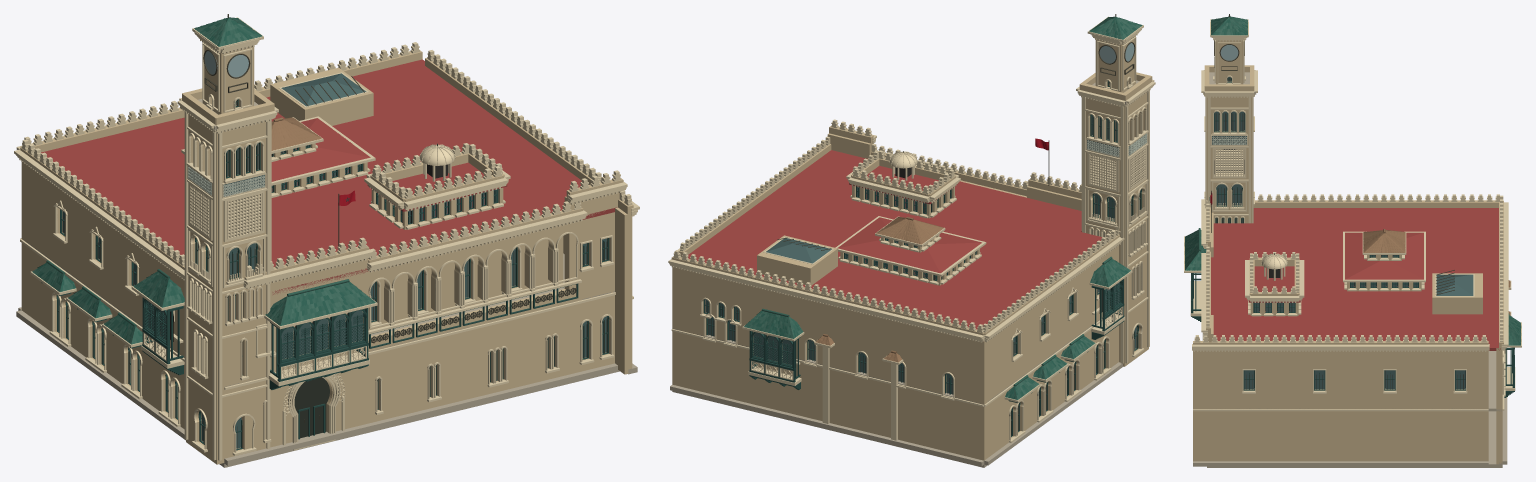
The model's file is COMANDANCIA_WEB.glb.
3 renders of one model, left to right at view 1: azimuth 30°, elevation 25°; view 2: azimuth 150°, elevation 25°; view 3: azimuth 270°, elevation 25°, orthographic. The views are drawn at different scales.
Parts seen in each view (by area): view 1: TOIT_TERRASSE_PRINCIPAL, MAIN_WALL_GALLERY_LOWER, MAIN_WALL_SIDE_B, Encadrements_baies, MAIN_WALL_FRONT_LEFT, TOWER_FACE_0, TOWER_CORNER_PILASTERS, PAVILION_FRONT_RIGHT, SOUBASSEMENTS, GALLERY_ARCADE_WALL, Vitrages_recesses, TOWER_FACE_1 (+53 smaller); view 2: REAR_WALL_HISTORICAL_HYPOTHESIS, TOIT_TERRASSE_PRINCIPAL, MAIN_WALL_SIDE_B, Encadrements_baies, TOWER_FACE_1, TOWER_CORNER_PILASTERS, SOUBASSEMENTS, CENTRAL_MONITOR_RED_support, Vitrages_recesses, Appuis_fenetres, Dormants_menuiseries, CORNICHE_3.141592653589793_0.6 (+38 smaller); view 3: RIGHT_WALL_UNCERTAIN, TOIT_TERRASSE_PRINCIPAL, CENTRAL_MONITOR_RED_support, SOUBASSEMENTS, Vitrages_recesses, CORNICHE_1.5707963267948966_-0.5, TOWER_FACE_3, CORNICHE_-1.5707963267948966_-1_parapet, CORNICHE_1.5707963267948966_-0.5_merlons, REAR_ROOF_ACCESS, Appuis_fenetres, CORNICHE_-1.5707963267948966_-1_merlons (+27 smaller).
Boxes of the visible parts, left/top/right/bottom form: TOIT_TERRASSE_PRINCIPAL: left=41, top=59, right=617, bottom=294; MAIN_WALL_GALLERY_LOWER: left=368, top=289, right=582, bottom=423; MAIN_WALL_SIDE_B: left=21, top=162, right=184, bottom=429; Encadrements_baies: left=51, top=94, right=612, bottom=452; MAIN_WALL_FRONT_LEFT: left=241, top=258, right=368, bottom=453; TOWER_FACE_0: left=212, top=121, right=266, bottom=464; TOWER_CORNER_PILASTERS: left=184, top=110, right=271, bottom=460; PAVILION_FRONT_RIGHT: left=564, top=192, right=619, bottom=370; SOUBASSEMENTS: left=16, top=307, right=637, bottom=465; GALLERY_ARCADE_WALL: left=368, top=220, right=582, bottom=327; Vitrages_recesses: left=59, top=103, right=607, bottom=448; TOWER_FACE_1: left=186, top=114, right=224, bottom=464; REAR_WALL_HISTORICAL_HYPOTHESIS: left=672, top=266, right=987, bottom=460; TOIT_TERRASSE_PRINCIPAL: left=688, top=150, right=1102, bottom=329; MAIN_WALL_SIDE_B: left=978, top=246, right=1118, bottom=460; Encadrements_baies: left=701, top=76, right=1146, bottom=440; TOWER_FACE_1: left=1118, top=92, right=1148, bottom=366; TOWER_CORNER_PILASTERS: left=1081, top=90, right=1149, bottom=363; SOUBASSEMENTS: left=670, top=362, right=1122, bottom=466; CENTRAL_MONITOR_RED_support: left=838, top=217, right=981, bottom=272; Vitrages_recesses: left=705, top=115, right=1139, bottom=415; Appuis_fenetres: left=700, top=84, right=1148, bottom=442; Dormants_menuiseries: left=703, top=81, right=1141, bottom=436; CORNICHE_3.141592653589793_0.6: left=668, top=259, right=984, bottom=341; RIGHT_WALL_UNCERTAIN: left=1193, top=350, right=1488, bottom=461; TOIT_TERRASSE_PRINCIPAL: left=1211, top=208, right=1500, bottom=350; CENTRAL_MONITOR_RED_support: left=1345, top=232, right=1423, bottom=279; SOUBASSEMENTS: left=1193, top=332, right=1507, bottom=466; Vitrages_recesses: left=1214, top=77, right=1465, bottom=389; CORNICHE_1.5707963267948966_-0.5: left=1192, top=344, right=1489, bottom=350; TOWER_FACE_3: left=1207, top=96, right=1251, bottom=223; CORNICHE_-1.5707963267948966_-1_parapet: left=1253, top=200, right=1499, bottom=207; CORNICHE_1.5707963267948966_-0.5_merlons: left=1194, top=335, right=1487, bottom=342; REAR_ROOF_ACCESS: left=1432, top=273, right=1482, bottom=314; Appuis_fenetres: left=1204, top=76, right=1505, bottom=396; CORNICHE_-1.5707963267948966_-1_merlons: left=1257, top=194, right=1499, bottom=201.
Size of the model in its own units: 25.69 by 24.99 by 23.98.
